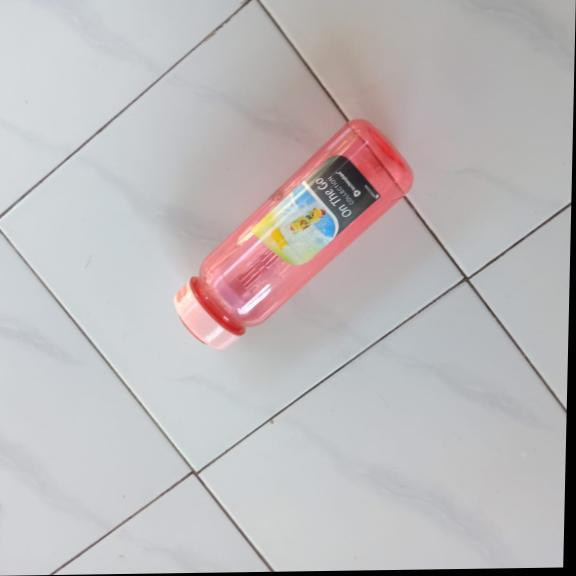Plastik: (174, 117, 415, 353)
